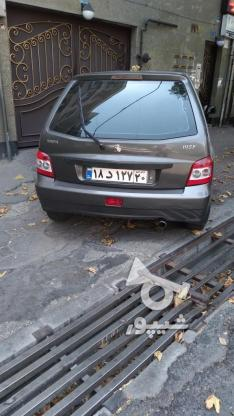car: (84, 165, 149, 184)
